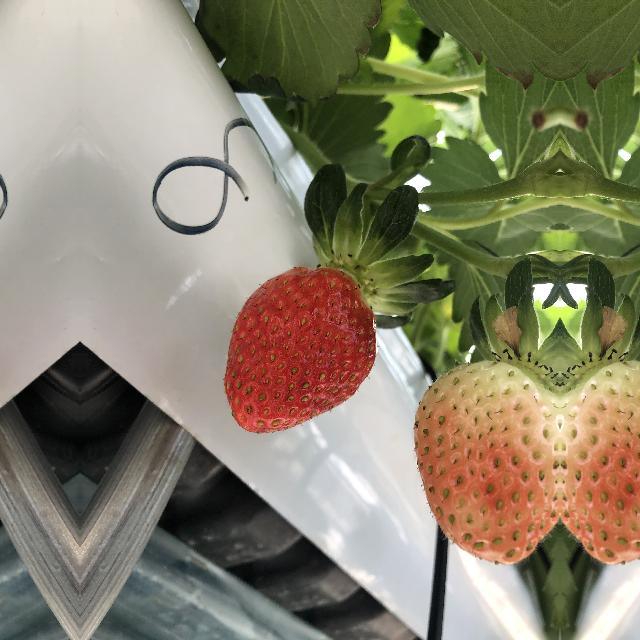Health_100: (218, 257, 382, 441)
Health_50: (412, 344, 560, 564), (560, 344, 640, 563)
